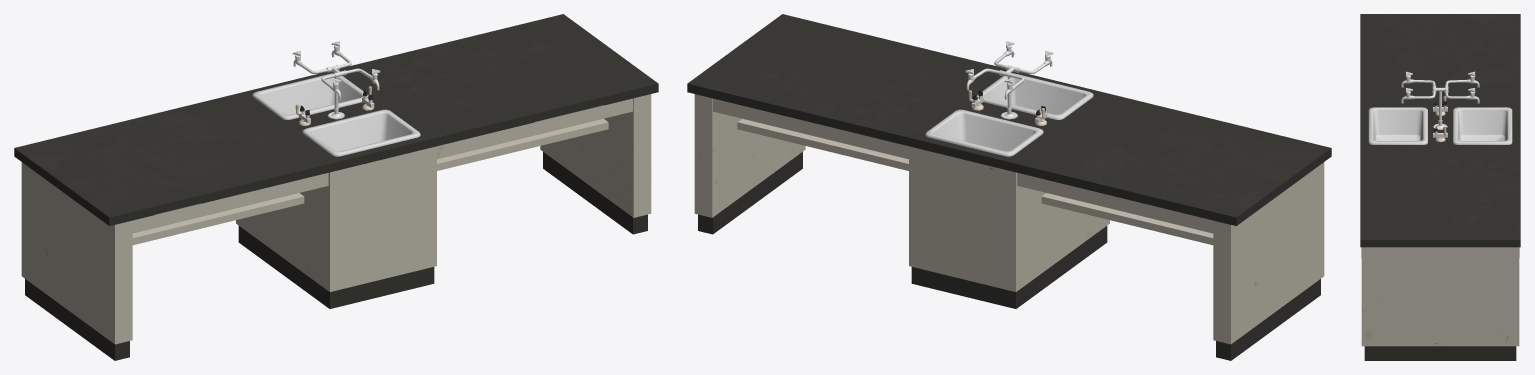
The model's file is ScienceDesk.fbx.
3 views of the same model, side by side, from view 1: azimuth 30°, elevation 25°; view 2: azimuth 150°, elevation 25°; view 3: azimuth 270°, elevation 25° (orthographic). The views are drawn at different scales.
Visible parts, largest first — view 1: ScienceDesk; view 2: ScienceDesk; view 3: ScienceDesk.
Part boxes in pixels (left/top/right/bottom): ScienceDesk: left=14, top=14, right=658, bottom=360; ScienceDesk: left=687, top=14, right=1331, bottom=360; ScienceDesk: left=1360, top=14, right=1520, bottom=360.
Bounding box in the file's own units: 3 × 1.05 × 0.9.
